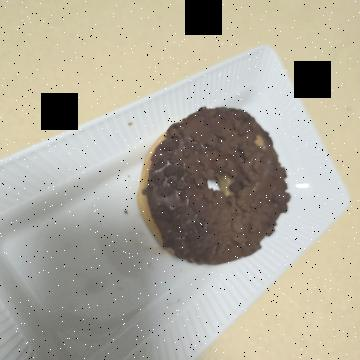doughnut: (97, 45, 271, 218)
